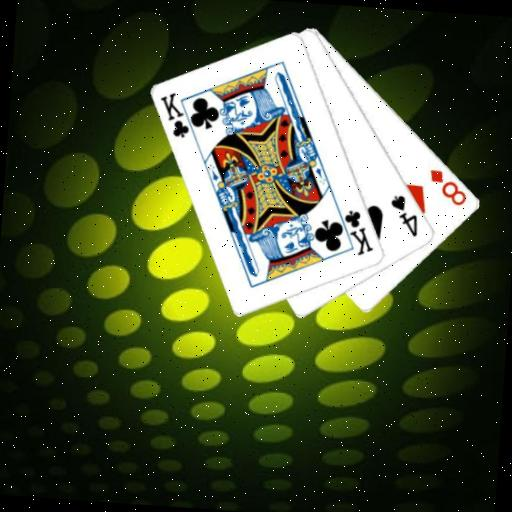4S: (385, 191, 422, 239)
8D: (425, 165, 472, 208)
KC: (155, 89, 202, 141), (332, 206, 378, 259)
